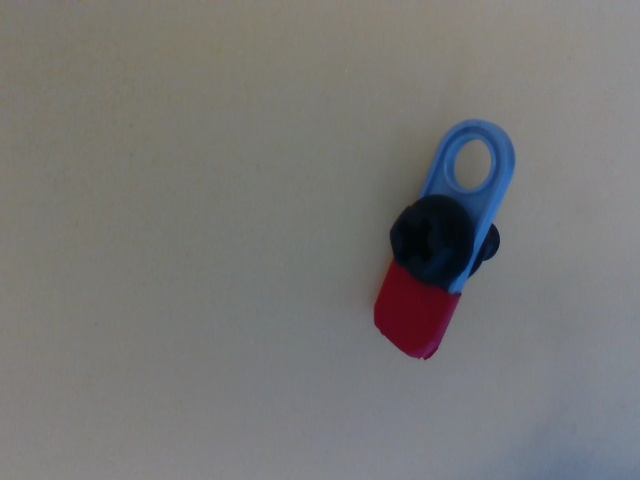part_1_good: (366, 115, 523, 370)
